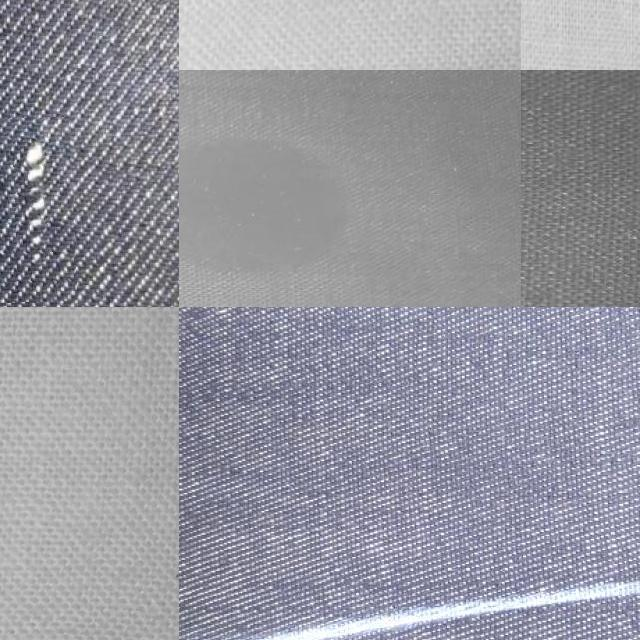Thread_other: (0, 118, 74, 302), (394, 625, 478, 640)
